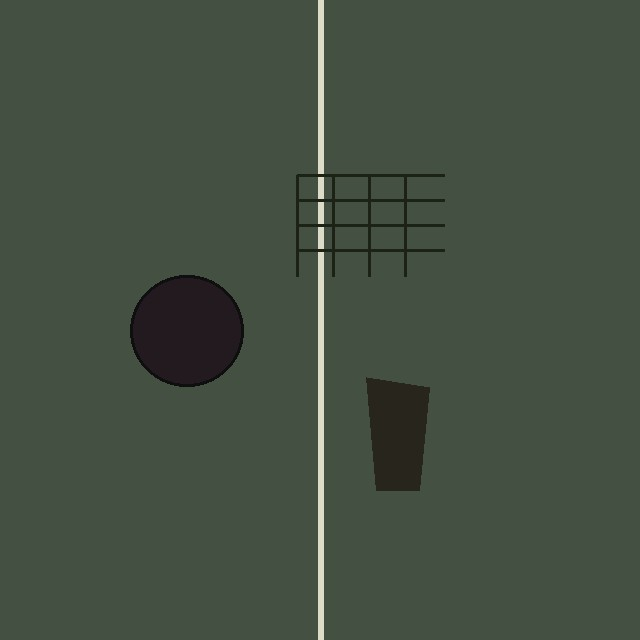alligator_crack: (297, 175, 444, 276)
damaged_surface: (366, 377, 429, 490)
pothole: (130, 275, 243, 386)
